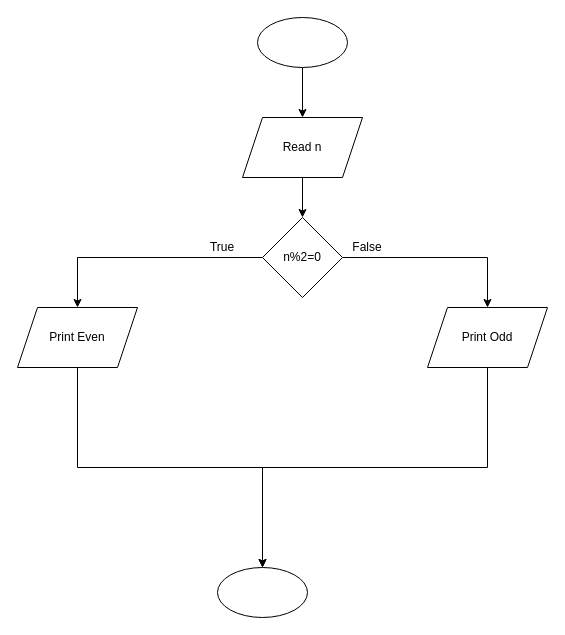
Some shapes in this 565 by 635 pixel diagram are drawn without their labels. Each missing label, with the centre of its shape:
"Start" goes at point 302,42.
"Stop" goes at point 262,592.
